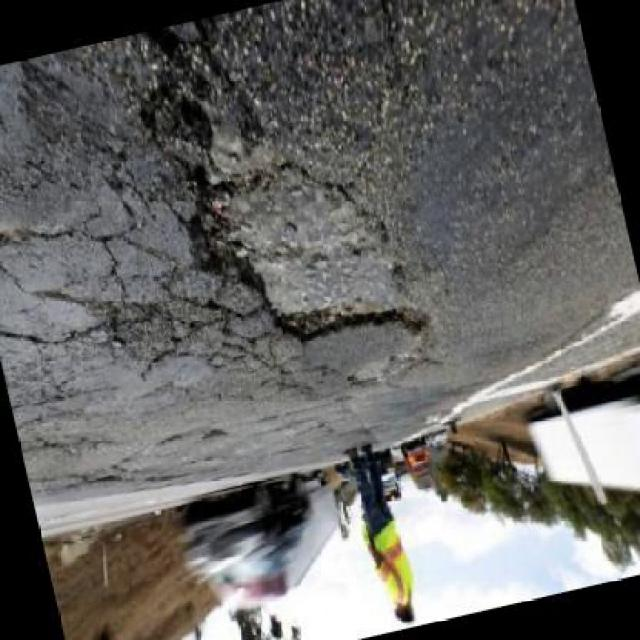pothole1: (171, 129, 435, 388), (123, 13, 268, 170), (348, 344, 435, 394)
